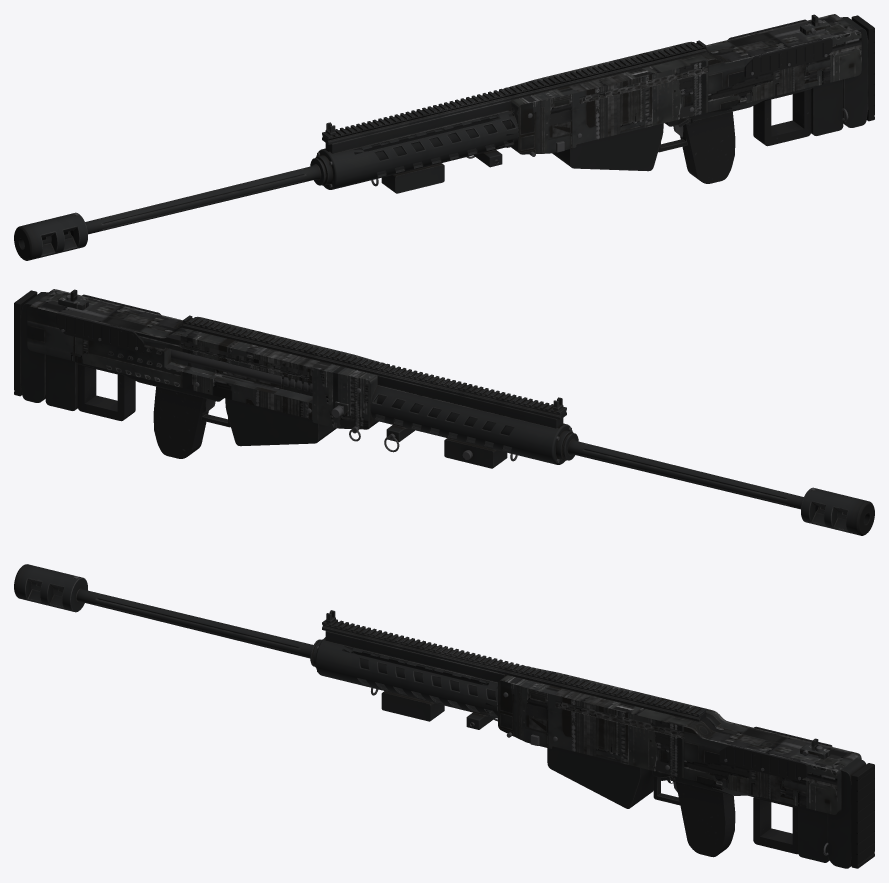
File: afm107_lod1.fbx
3 renders of one model, top to bottom at view 1: azimuth 30°, elevation 25°; view 2: azimuth 150°, elevation 25°; view 3: azimuth 330°, elevation 25°, orthographic.
Visible parts, largest first — view 1: M107_LOD_1; view 2: M107_LOD_1; view 3: M107_LOD_1.
Boxes of the visible parts, left/top/right/bottom form: M107_LOD_1: left=14, top=14, right=874, bottom=260; M107_LOD_1: left=14, top=289, right=874, bottom=535; M107_LOD_1: left=14, top=564, right=874, bottom=868.
Size of the model in its own units: 154 by 10.2 by 25.7.
